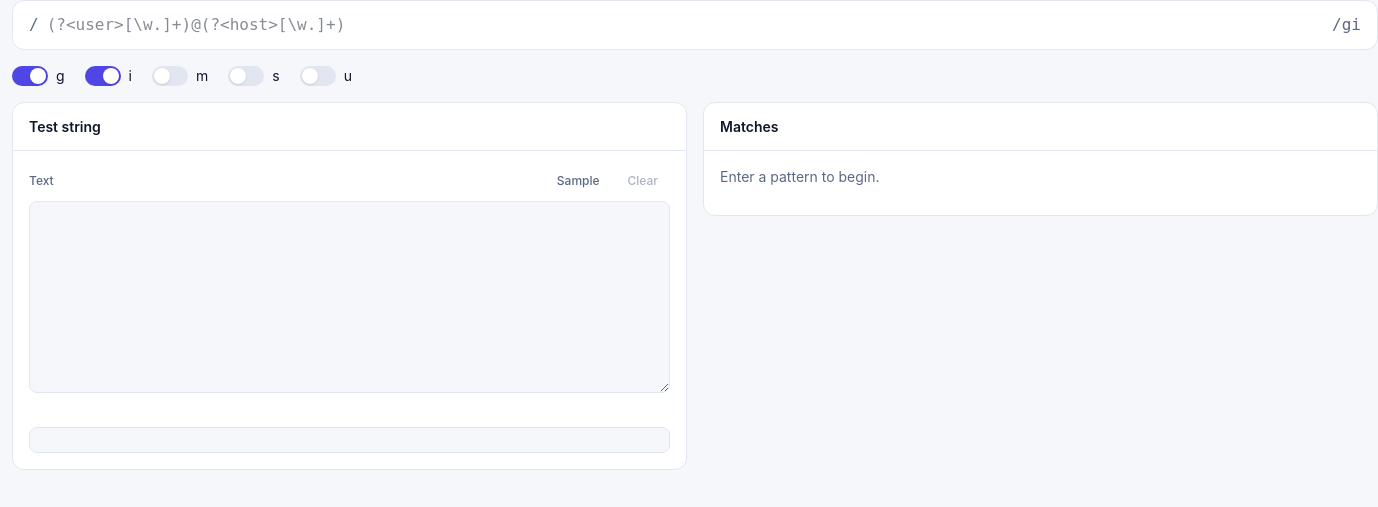
it: tools › RegexTool highlights matches
Type "\\d+" into the field named "Pattern" at (685, 25), box [47,9,1324,41]
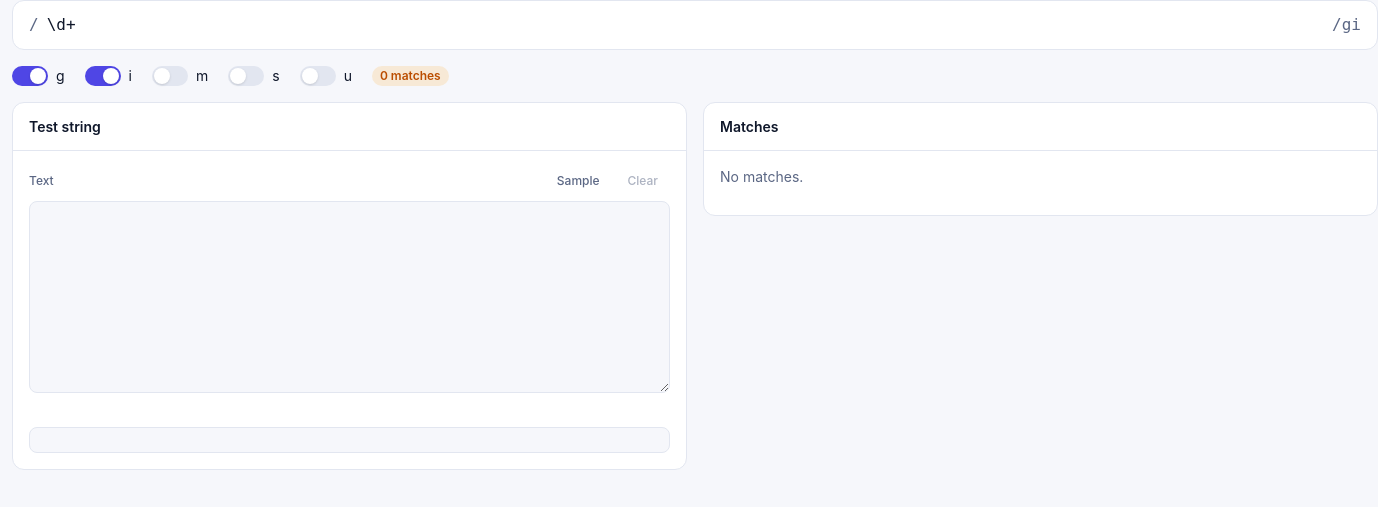
Type "a12 b345" into the text box labelled "Text" at (350, 297), box [29,201,670,393]
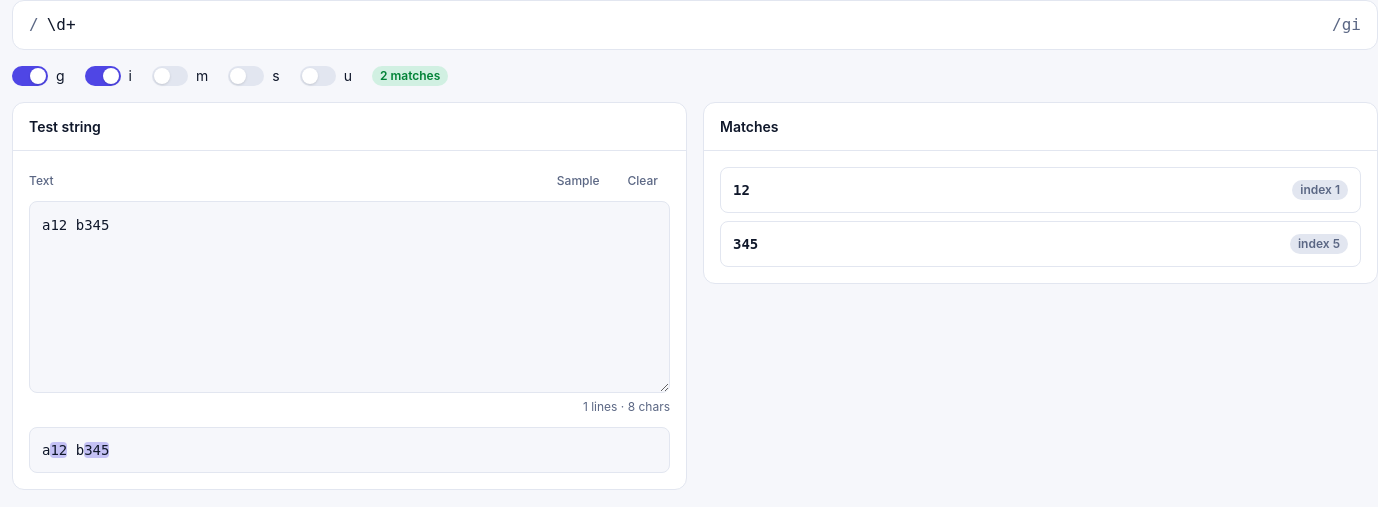
Now the text "2 matches" is shown, box [372,66,448,86]
